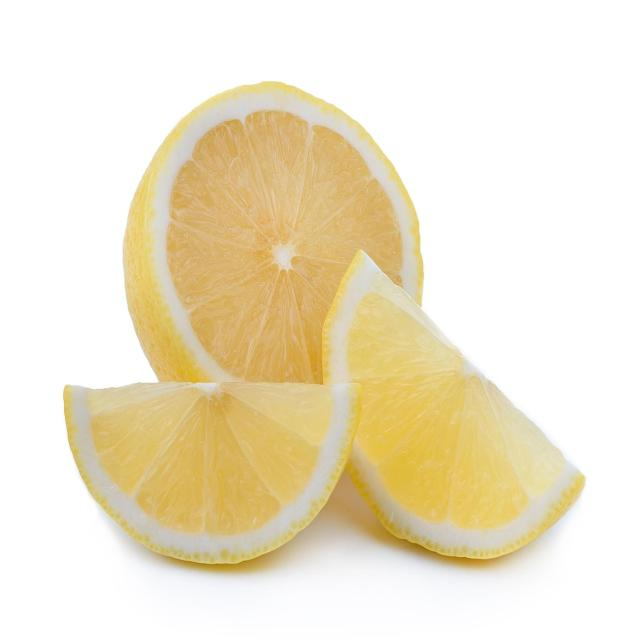lemon: (56, 75, 589, 575)
